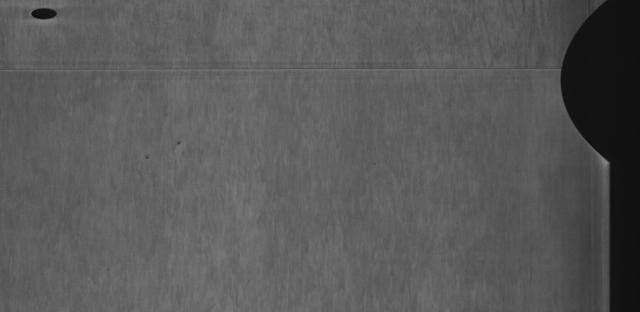crescent_gap: (552, 0, 616, 180)
inclusion: (170, 136, 183, 150), (143, 154, 152, 162)
punching_hole: (29, 7, 57, 22)
welding_line: (1, 64, 562, 76)
